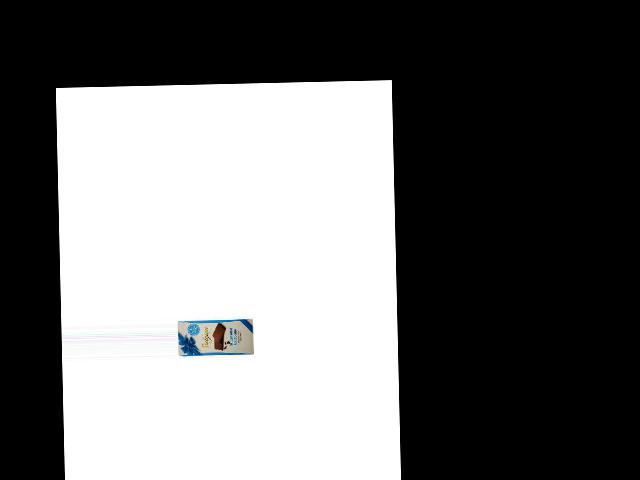chocolate: (176, 316, 255, 361)
